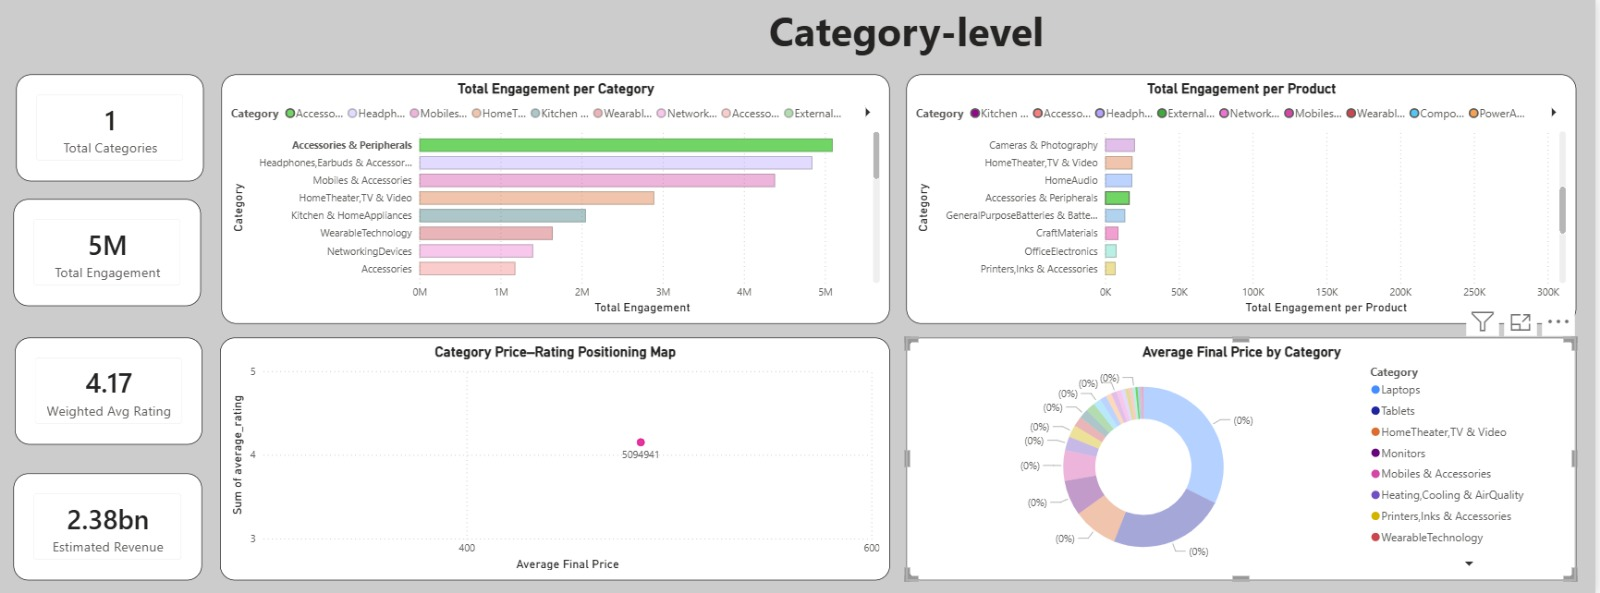

What the dashboard file says about the page in this screenshot:
{"tool":"powerbi","page":{"name":"Page 1","canvas":[1920,720],"ordinal":0},"visuals":[{"type":"barChart","title":"Total Engagement per Category ","fields":{"Y":["category_table.Total Engagement"],"Category":["category_table.Category"],"Series":["category_table.Category"]},"box":[268.3,91.7,803.3,300],"z":0},{"type":"cardVisual","fields":{"Data":["category_table.Total Categories"]},"box":[21.7,91.7,225,128.3],"z":1000},{"type":"cardVisual","fields":{"Data":["product_table.Weighted Avg Rating"]},"box":[20,408.3,225,128.3],"z":2000},{"type":"cardVisual","fields":{"Data":["category_table.Total Engagement"]},"box":[18.3,241.7,225,128.3],"z":3000},{"type":"cardVisual","fields":{"Data":["category_table.Estimated Revenue"]},"box":[18.3,571.7,226.7,128.3],"z":4000},{"type":"barChart","title":"Total Engagement per Product ","fields":{"Y":["category_table.Customers Engagement per Product"],"Category":["category_table.Category"],"Series":["category_table.Category"]},"box":[1091.7,91.7,805,300],"z":5000},{"type":"scatterChart","title":"Category Price–Rating Positioning Map","fields":{"Category":["category_table.total_engagement"],"Y":["Sum(category_table.average_rating)"],"X":["category_table.Average Final Price"]},"box":[266.7,408.3,805,291.7],"z":6000},{"type":"donutChart","fields":{"Category":["category_table.Category"],"Y":["category_table.Average Final Price"]},"box":[1091.7,408.3,805,291.7],"z":7000},{"type":"textbox","box":[921.7,0,423.3,75],"z":8000}]}

Visuals, with their boxes in screenshot pixels (x1, y1, x2, y2), scaled from the page's 1920x720 canvas onto the 1600x593 screenshot:
"Total Engagement per Category " barChart: {"left": 224, "top": 76, "right": 893, "bottom": 323}
cardVisual - category_table.Total Categories: {"left": 18, "top": 76, "right": 206, "bottom": 181}
cardVisual - product_table.Weighted Avg Rating: {"left": 17, "top": 336, "right": 204, "bottom": 442}
cardVisual - category_table.Total Engagement: {"left": 15, "top": 199, "right": 203, "bottom": 305}
cardVisual - category_table.Estimated Revenue: {"left": 15, "top": 471, "right": 204, "bottom": 577}
"Total Engagement per Product " barChart: {"left": 910, "top": 76, "right": 1581, "bottom": 323}
"Category Price–Rating Positioning Map" scatterChart: {"left": 222, "top": 336, "right": 893, "bottom": 577}
donutChart - category_table.Category x category_table.Average Final Price: {"left": 910, "top": 336, "right": 1581, "bottom": 577}
textbox: {"left": 768, "top": 0, "right": 1121, "bottom": 62}
